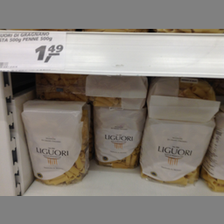pasta: (21, 99, 91, 186), (140, 119, 214, 186), (93, 106, 146, 169)
